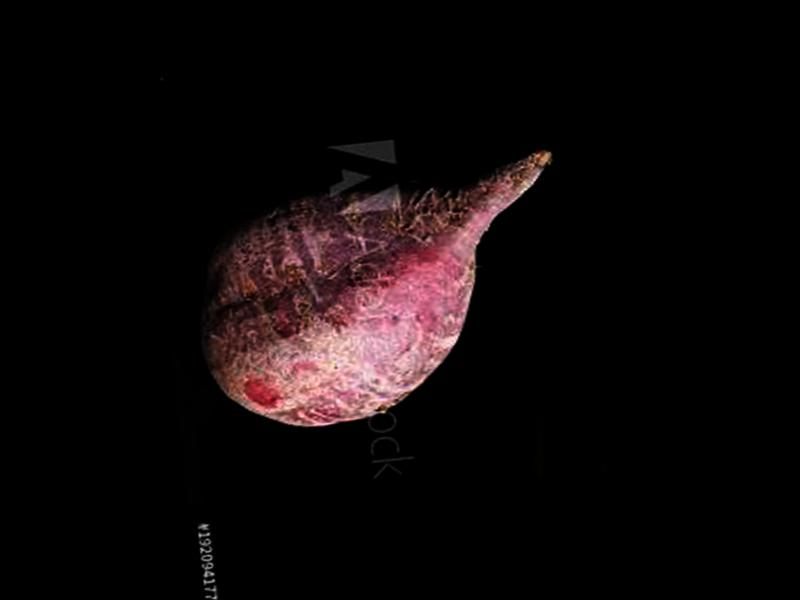Beet: (188, 151, 578, 439)
